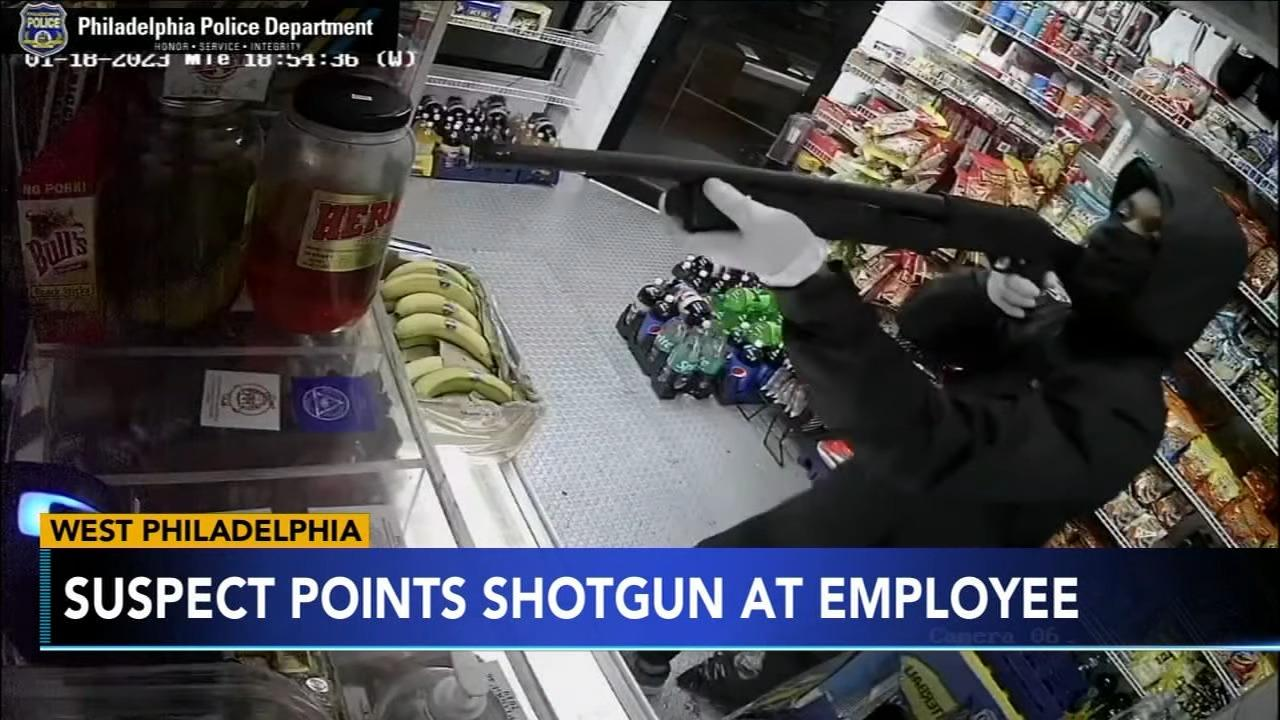shotgun: (510, 134, 1054, 317)
